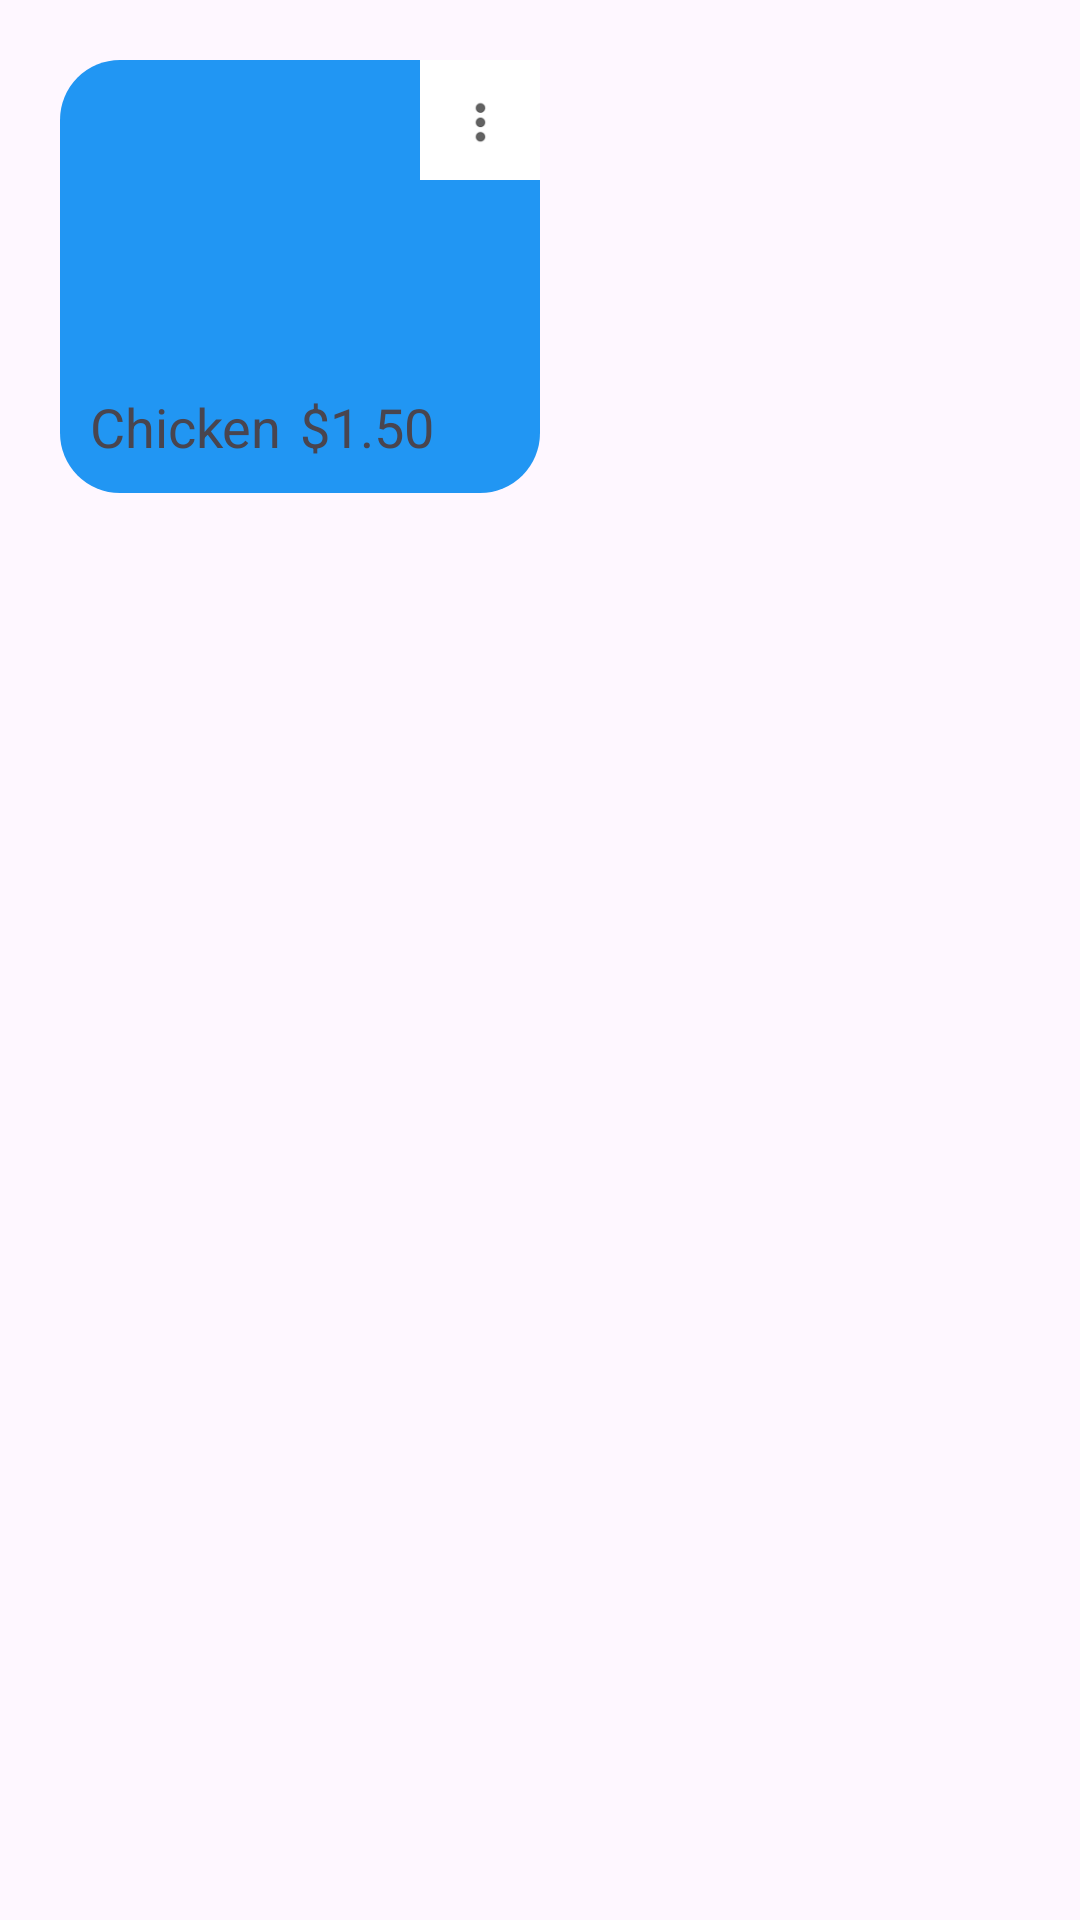

Screen size 1080×1920. Icon name, then its box in pixels as (x1,y1,x2,y2):
dots: (475,103,486,142)
